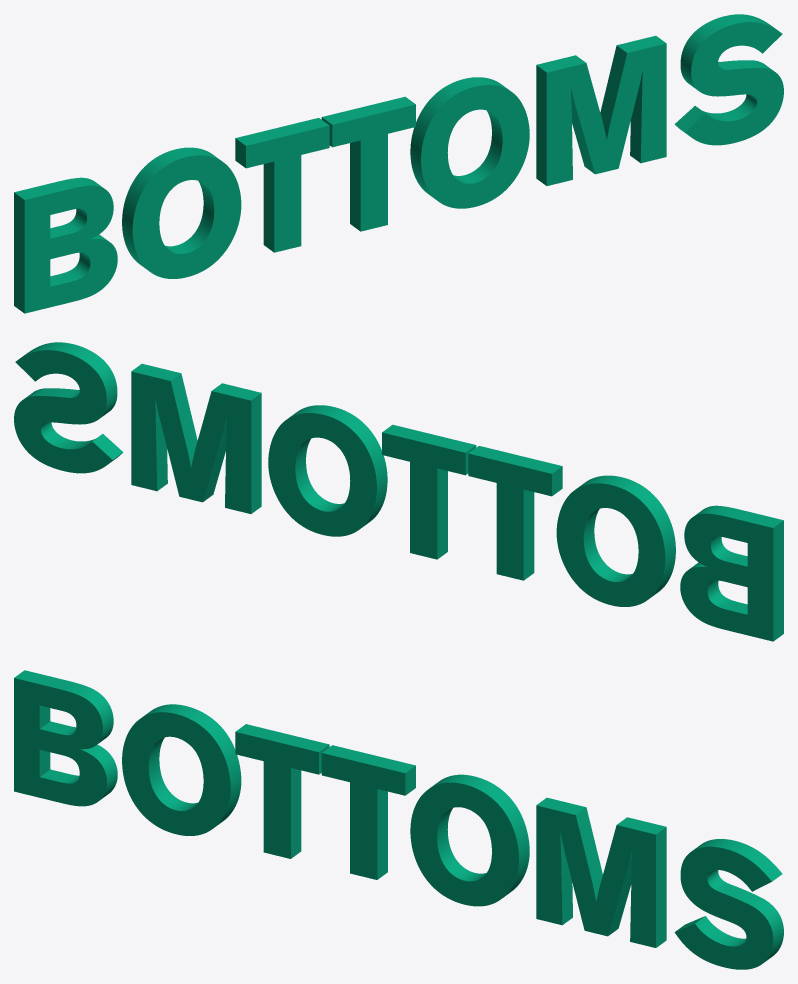
File: Bottoms_Oct2.gltf
The picture shows the model from 3 angles, top to bottom: view 1: azimuth 30°, elevation 25°; view 2: azimuth 150°, elevation 25°; view 3: azimuth 330°, elevation 25°; orthographic projection.
Size of the model in its own units: 1.98 by 0.2992 by 0.048.
